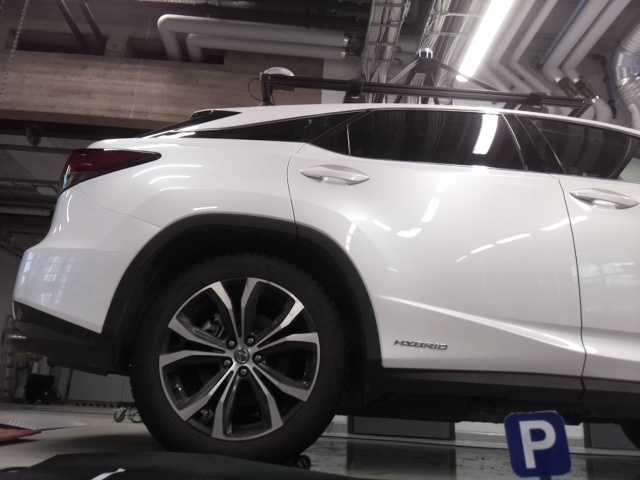Parking: (502, 412, 572, 476)
